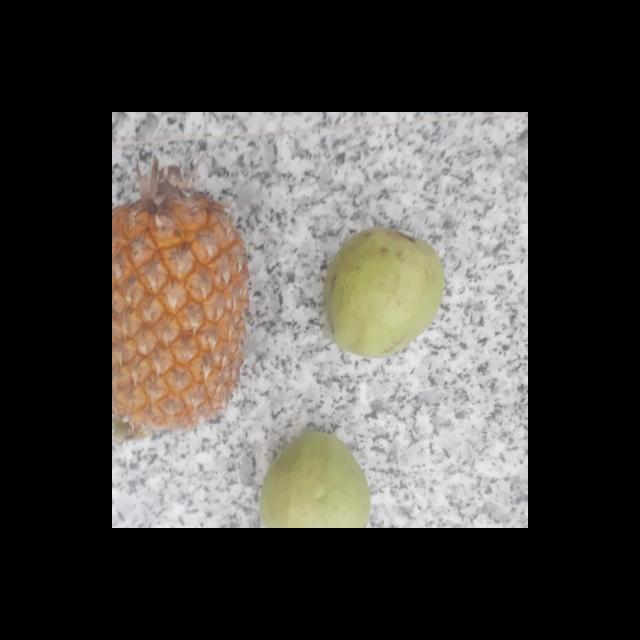guava: (316, 228, 444, 359), (254, 435, 374, 527)
pineapple: (112, 174, 246, 447)
